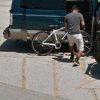Bicycle: (29, 16, 97, 65)
